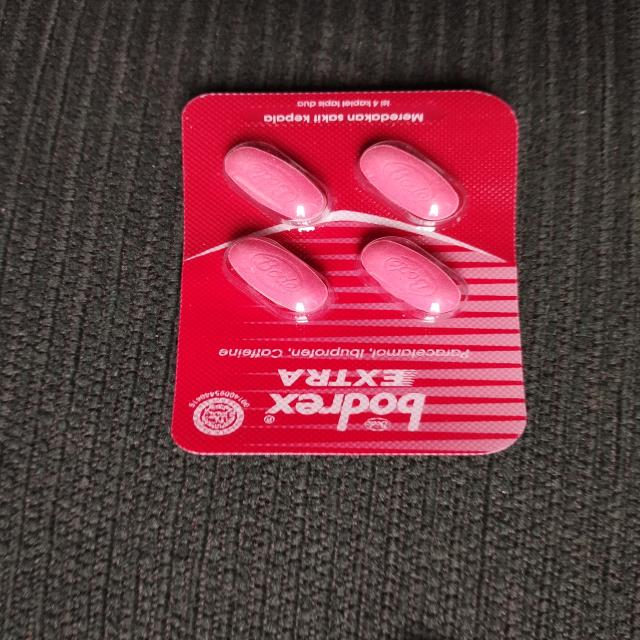B3: (169, 82, 526, 459)
